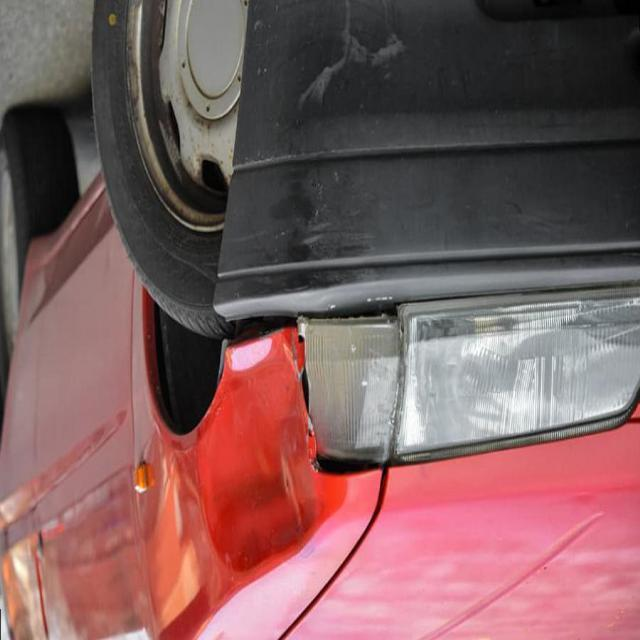dent: (151, 250, 367, 600)
